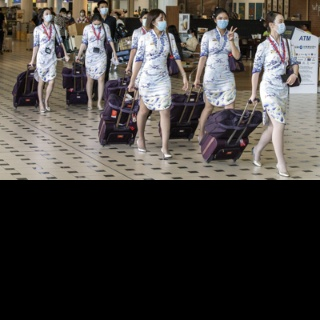with_mask: (155, 16, 168, 32), (275, 18, 286, 35), (216, 16, 229, 29), (100, 4, 108, 16), (44, 12, 52, 23), (142, 16, 148, 27), (92, 23, 102, 29), (68, 12, 72, 17), (80, 11, 84, 16), (188, 33, 192, 38), (62, 12, 65, 16)
